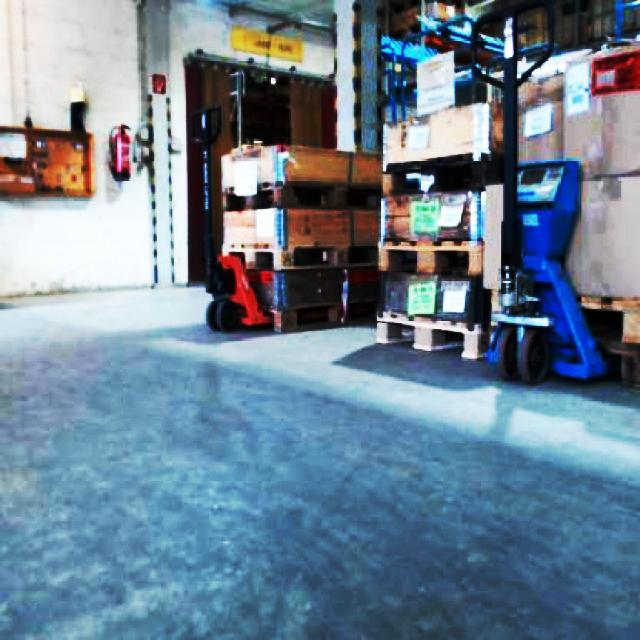ground: (0, 280, 638, 638)
pallet: (215, 138, 638, 394), (374, 0, 638, 391), (374, 102, 498, 358), (217, 142, 382, 332), (0, 122, 94, 197), (575, 292, 638, 397)
